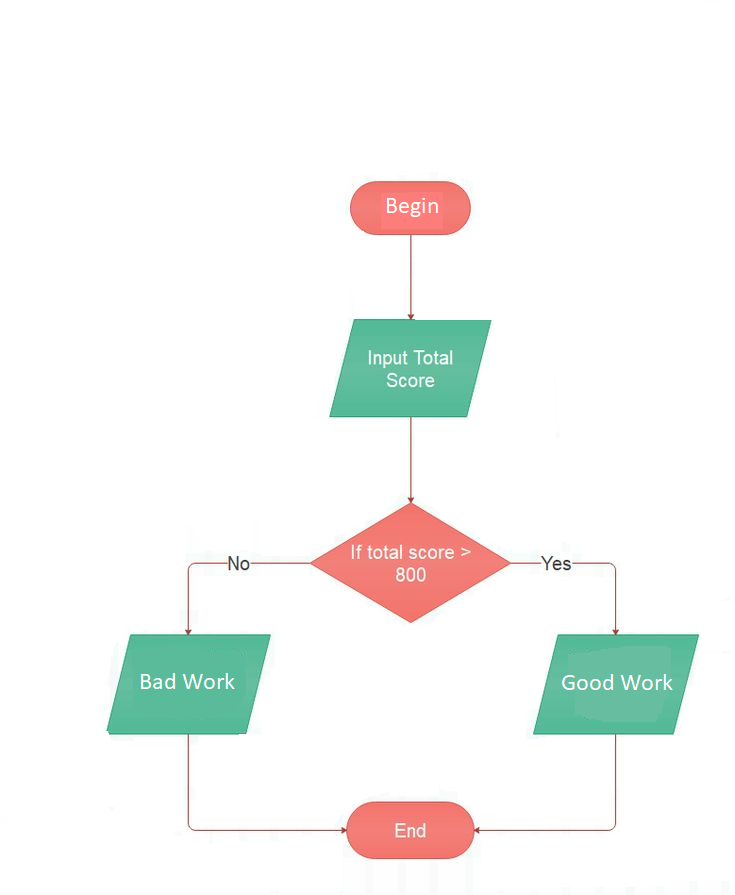arrow: (183, 734, 349, 838), (472, 741, 621, 837), (183, 557, 305, 641), (511, 561, 621, 638), (403, 413, 419, 504), (405, 237, 419, 318)
data: (103, 631, 276, 737), (530, 631, 699, 738), (328, 319, 491, 422)
decision: (311, 504, 509, 621)
terminator: (345, 798, 478, 863), (349, 181, 472, 238)
text: (346, 537, 475, 585), (365, 346, 459, 394), (559, 668, 676, 696), (137, 669, 241, 696), (386, 194, 444, 221), (390, 819, 430, 841), (538, 553, 575, 573), (226, 553, 253, 572)
